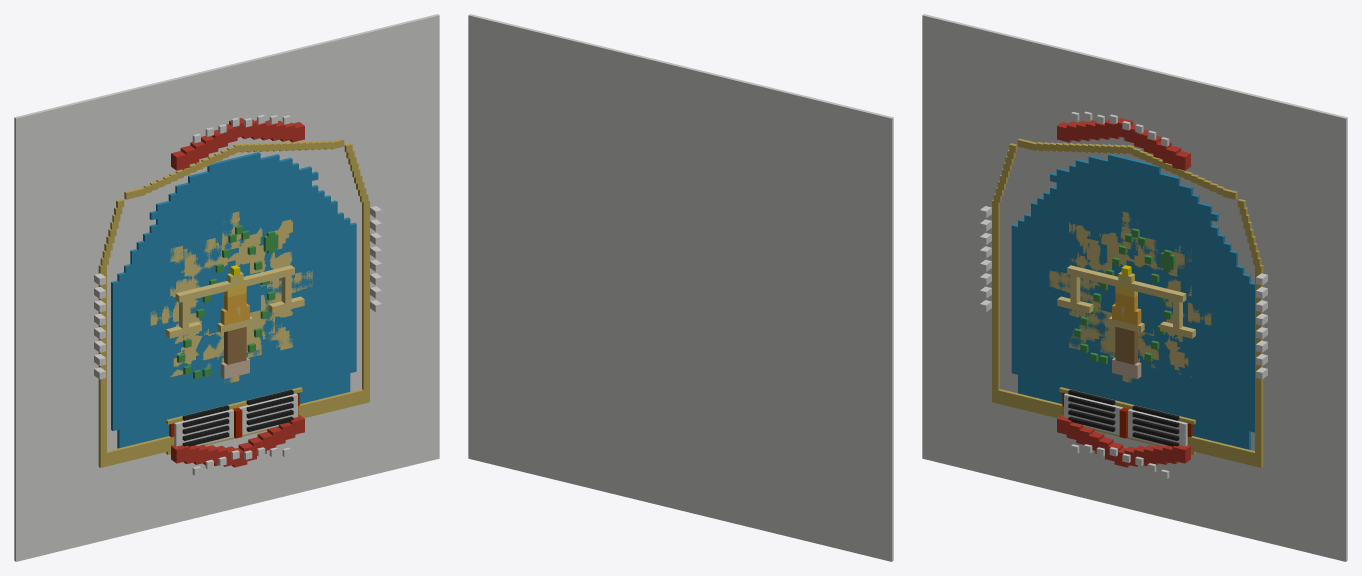
Rendered from crest_blockbench.glb.
The picture shows the model from 3 angles, left to right: view 1: azimuth 30°, elevation 25°; view 2: azimuth 150°, elevation 25°; view 3: azimuth 330°, elevation 25°; orthographic projection.
Visible parts, largest first — view 1: world; view 2: world; view 3: world.
Part boxes in pixels (x1,y1,x2,y2): world: [14, 14, 439, 561]; world: [468, 14, 893, 561]; world: [922, 14, 1347, 561].
Size of the model in its own units: 132 by 132 by 9.
